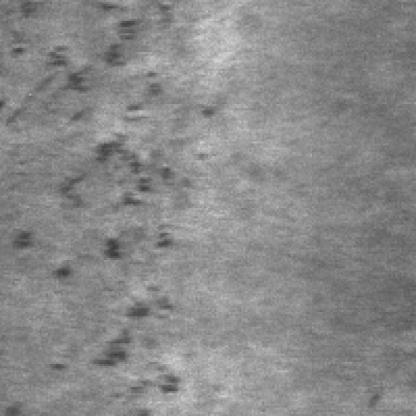rolled-in_scale: (70, 94, 192, 408), (6, 0, 175, 121)
